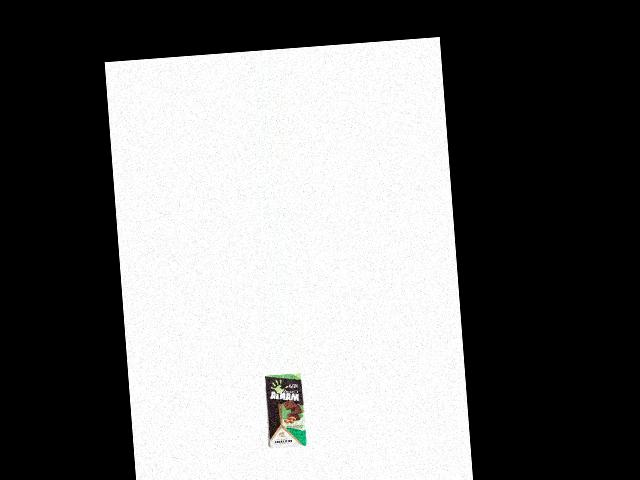chocolate: (262, 371, 308, 449)
